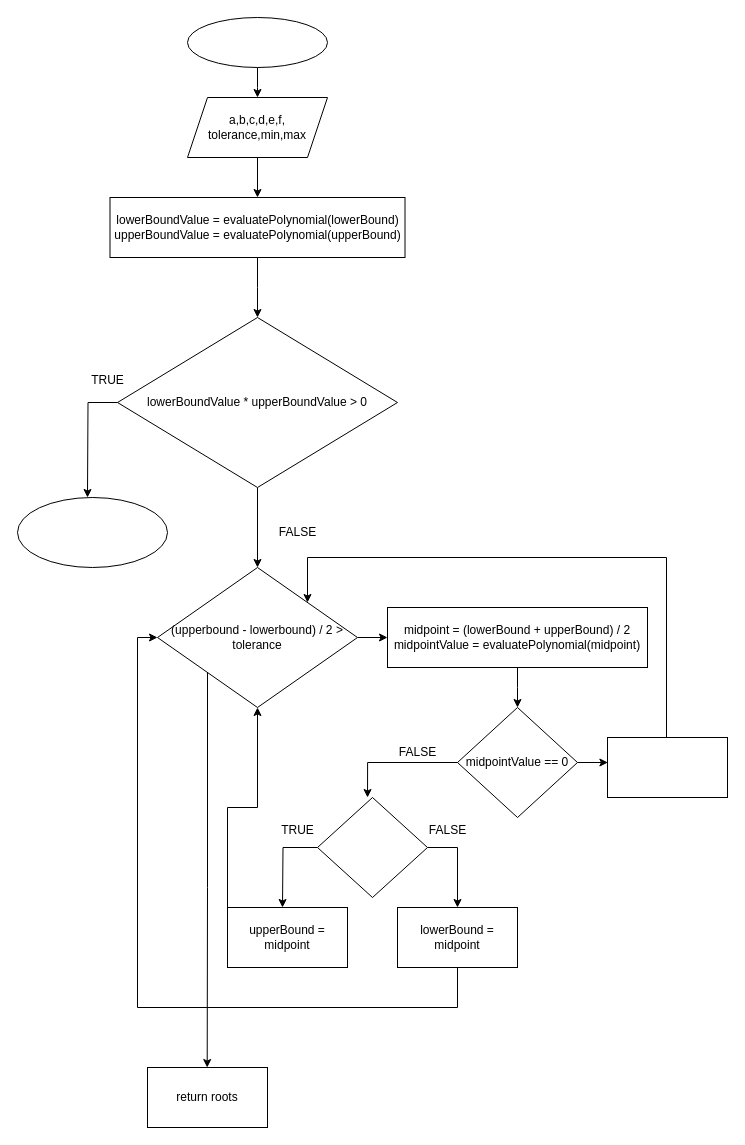
Image size: 745x1145. Some labels were removed from this diagram. The centre of each missing label's shape, as x and y in pixels:
"lowerBound * midpointValue < 0" belongs at point (372, 847).
"Nie znaleziono pierwiastków w podanym przedziale END" belongs at point (92, 532).
"return midpoint" belongs at point (667, 767).
"START" belongs at point (257, 42).
